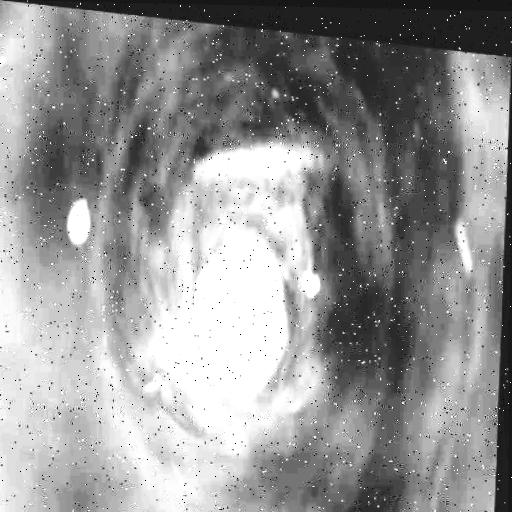balloon: (69, 198, 92, 241), (303, 263, 324, 293)
